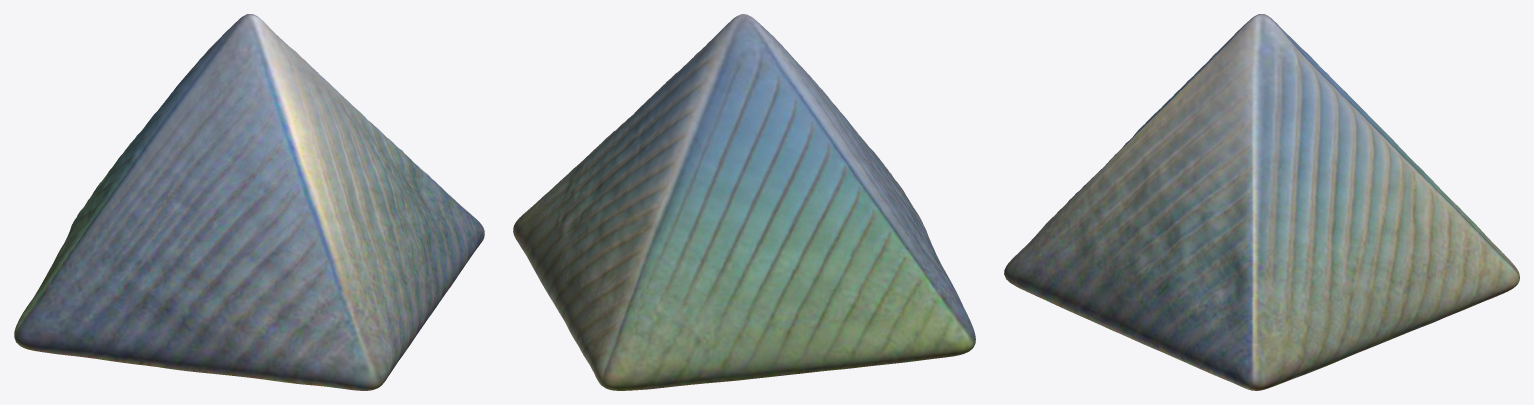
Rendered from triangle_0811174412_preview.fbx.
3 renders of one model, left to right at view 1: azimuth 30°, elevation 25°; view 2: azimuth 150°, elevation 25°; view 3: azimuth 270°, elevation 25°, orthographic. The views are drawn at different scales.
Parts seen in each view (by area): view 1: Mesh1; view 2: Mesh1; view 3: Mesh1.
Part boxes in pixels (left/top/right/bottom): Mesh1: left=14, top=14, right=484, bottom=390; Mesh1: left=513, top=14, right=975, bottom=390; Mesh1: left=1004, top=14, right=1519, bottom=390.
Bounding box in the file's own units: 120 × 81.28 × 120.
1 material, 1 textured.
